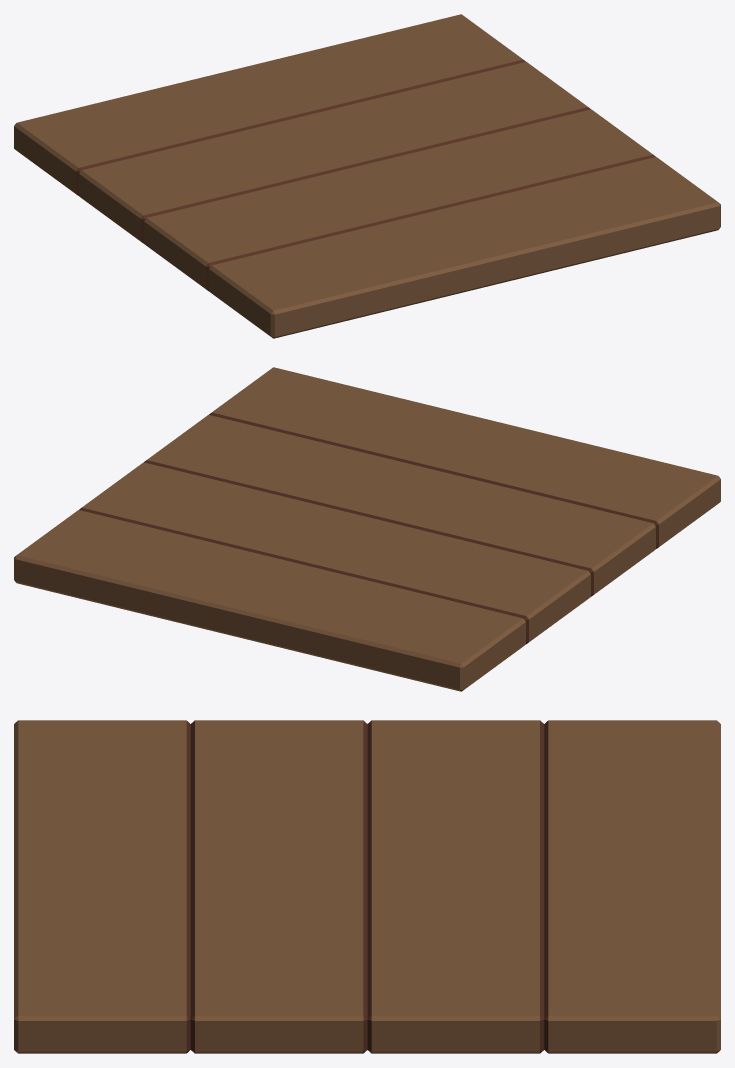
The model's file is Piso_madera_gastada.fbx.
The picture shows the model from 3 angles, top to bottom: view 1: azimuth 30°, elevation 25°; view 2: azimuth 150°, elevation 25°; view 3: azimuth 270°, elevation 25°; orthographic projection. The views are drawn at different scales.
Visible parts, largest first — view 1: pCube103; view 2: pCube103; view 3: pCube103.
Boxes of the visible parts, x1,y1,x2,y2 form: pCube103: (14,14,720,338); pCube103: (14,367,720,691); pCube103: (14,720,720,1053).
Bounding box in the file's own units: 2.99 × 0.1785 × 2.99.
